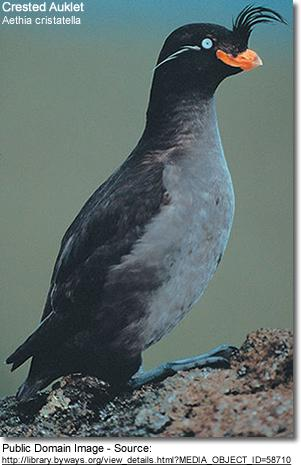005.Crested_Auklet: (8, 3, 287, 416)
